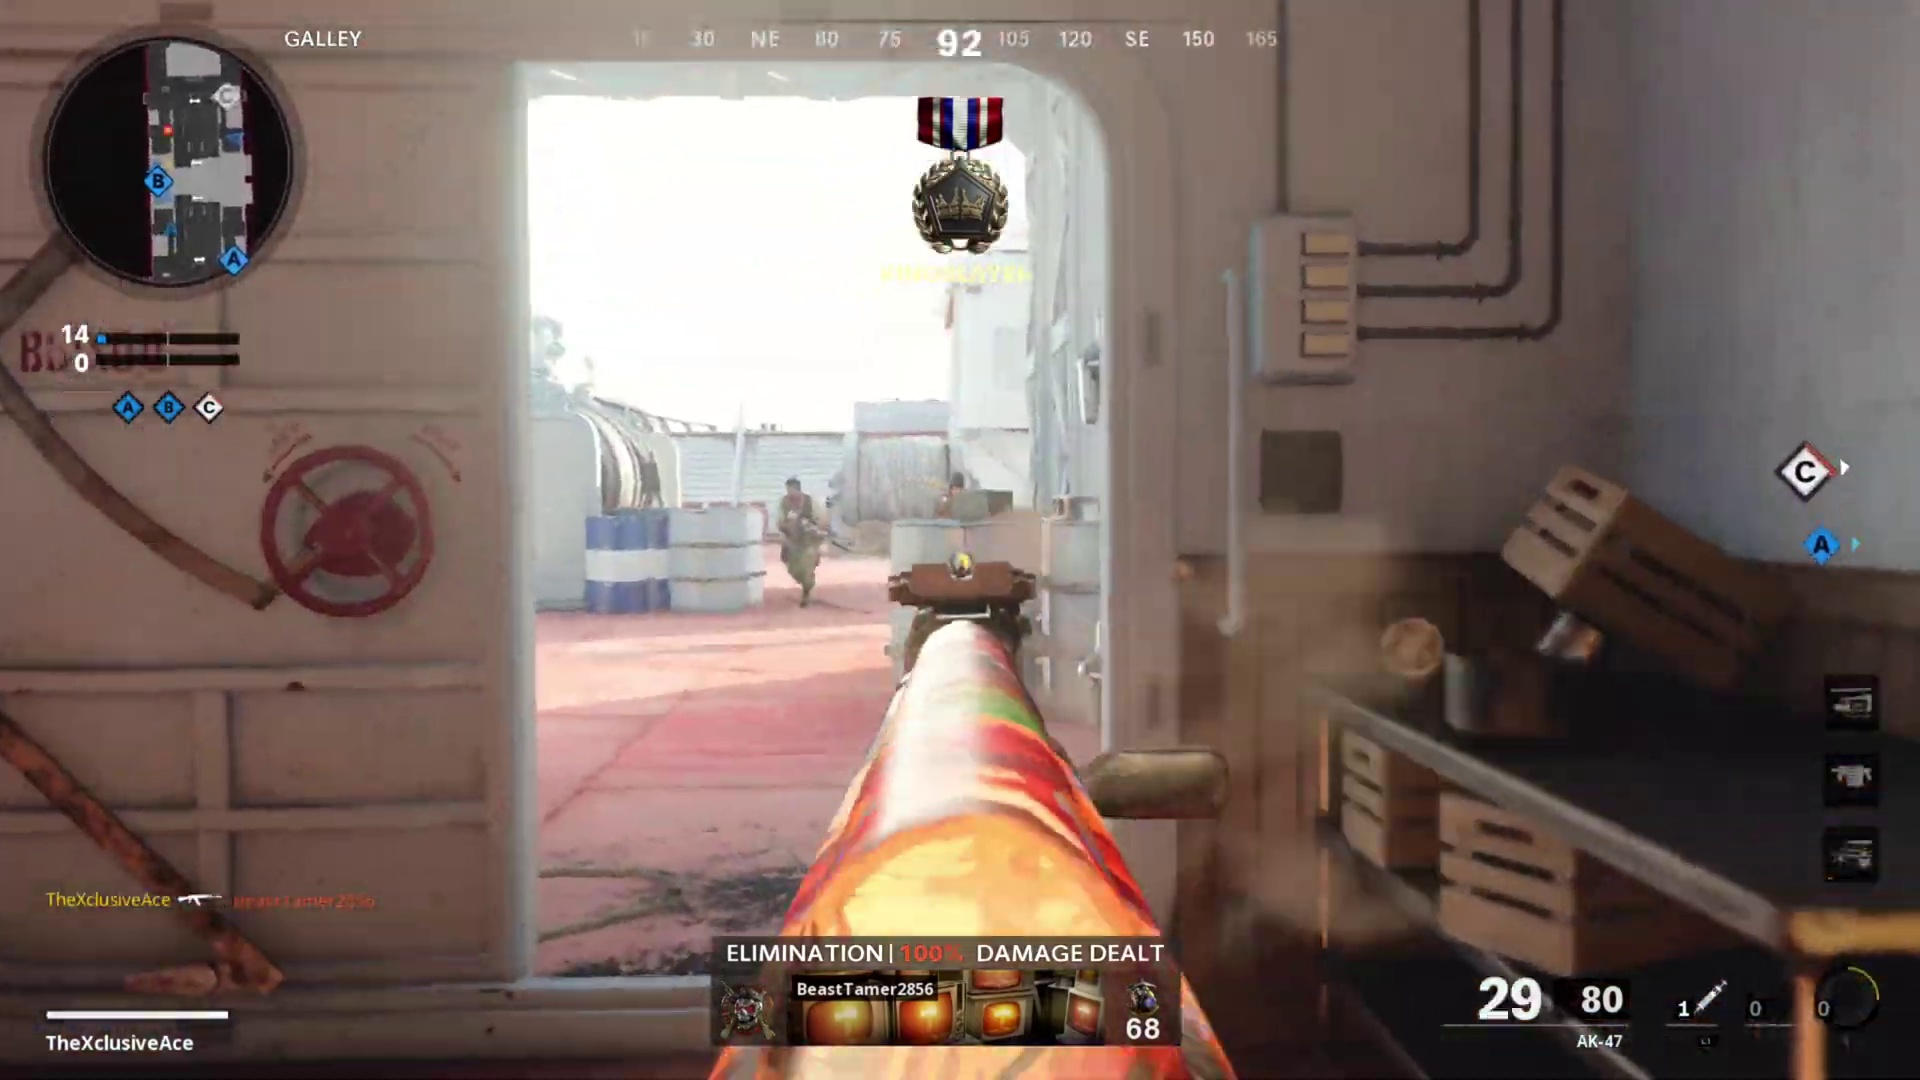head: (781, 476, 808, 508), (944, 468, 971, 500)
person: (773, 472, 826, 607)
